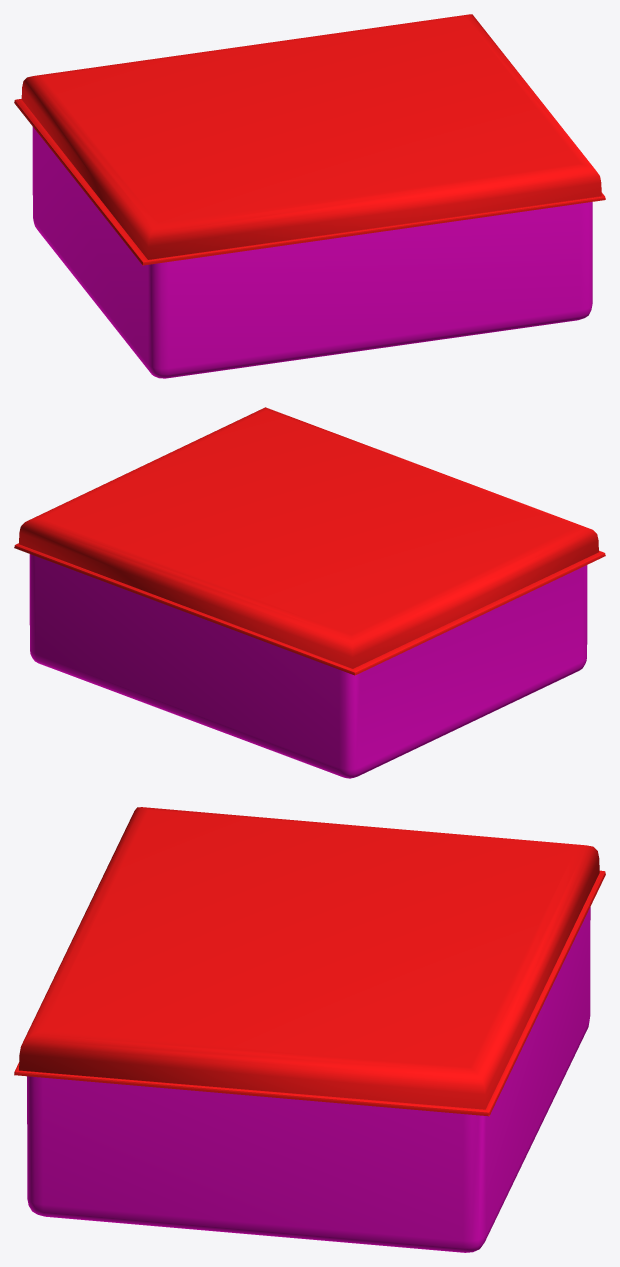
Rendered from Tin.fbx.
3 renders of one model, top to bottom at view 1: azimuth 30°, elevation 25°; view 2: azimuth 150°, elevation 25°; view 3: azimuth 270°, elevation 25°, orthographic. The views are drawn at different scales.
Visible parts, largest first — view 1: TinLid, Tin; view 2: TinLid, Tin; view 3: TinLid, Tin.
Boxes of the visible parts, x1,y1,x2,y2 form: TinLid: (14, 14, 605, 265); Tin: (32, 127, 592, 378); TinLid: (14, 407, 605, 675); Tin: (29, 554, 587, 778); TinLid: (14, 807, 605, 1116); Tin: (27, 907, 590, 1252).
Bounding box in the file's own units: 17.73 × 5.43 × 15.69.
